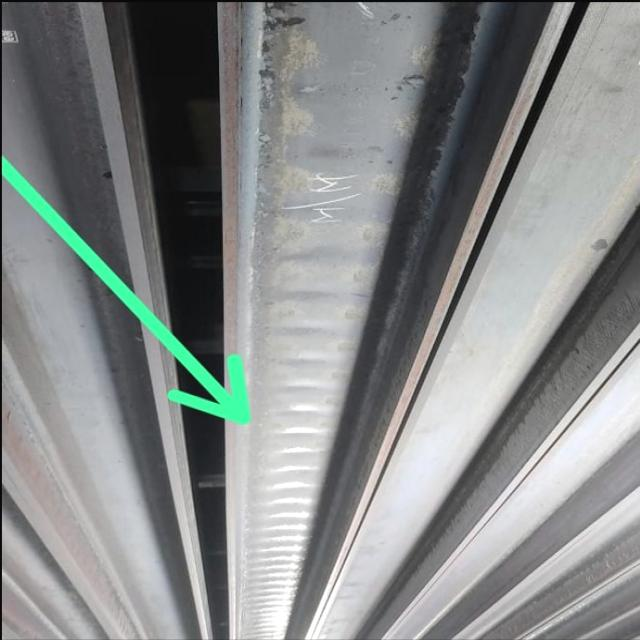defect: (241, 121, 412, 640)
